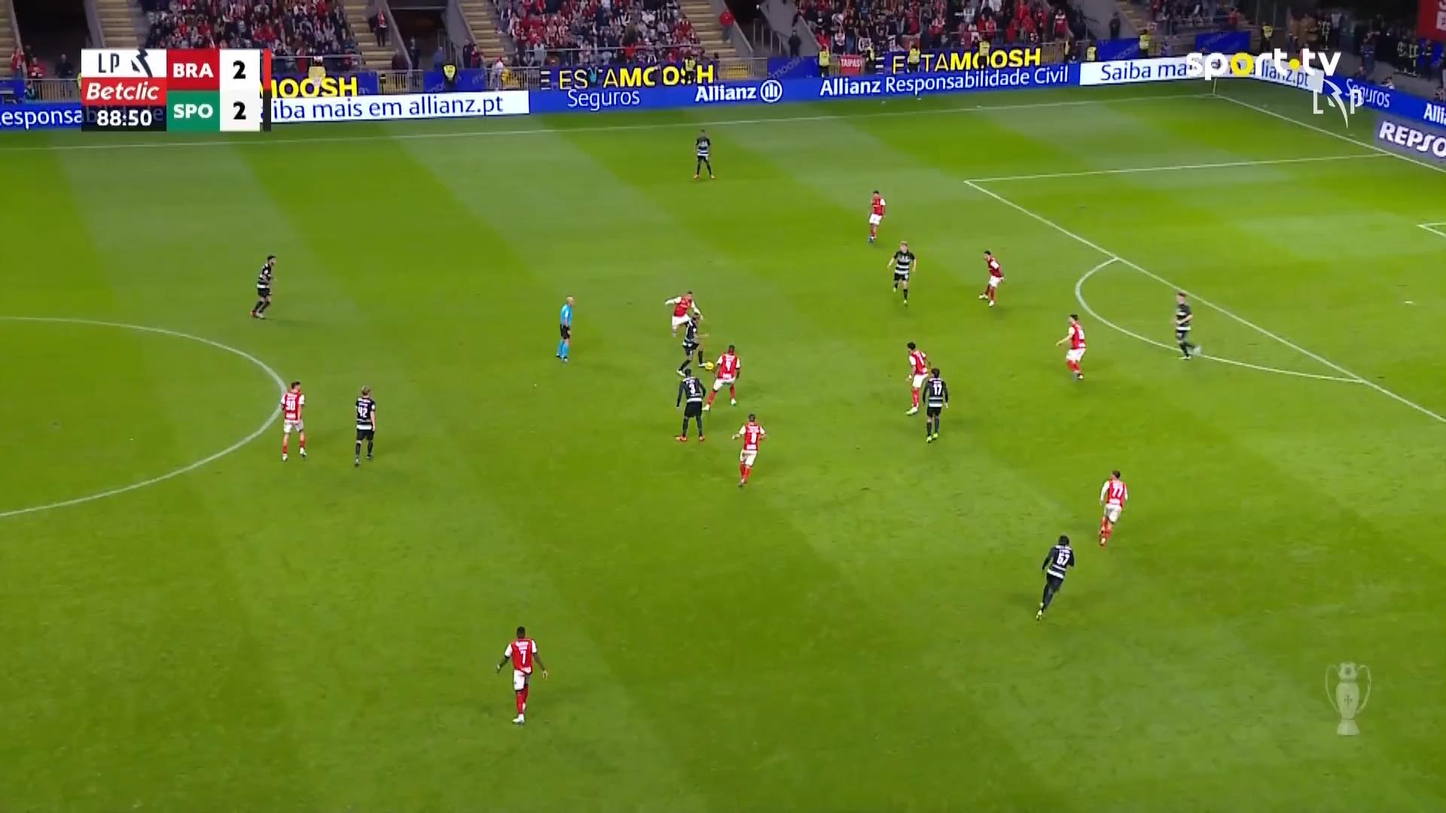ball: (703, 361, 713, 370)
player: (494, 625, 548, 723), (1034, 533, 1074, 621), (731, 413, 767, 487), (702, 343, 741, 410), (673, 366, 706, 442), (1097, 468, 1127, 547), (279, 380, 307, 461), (920, 367, 949, 442), (1055, 313, 1087, 379), (352, 385, 377, 466), (886, 239, 916, 306), (664, 289, 703, 338), (676, 312, 705, 376), (905, 341, 930, 415), (250, 254, 276, 319), (1173, 290, 1196, 360), (978, 249, 1004, 306), (691, 129, 715, 180), (867, 189, 886, 243)
referee: (555, 295, 575, 361)
